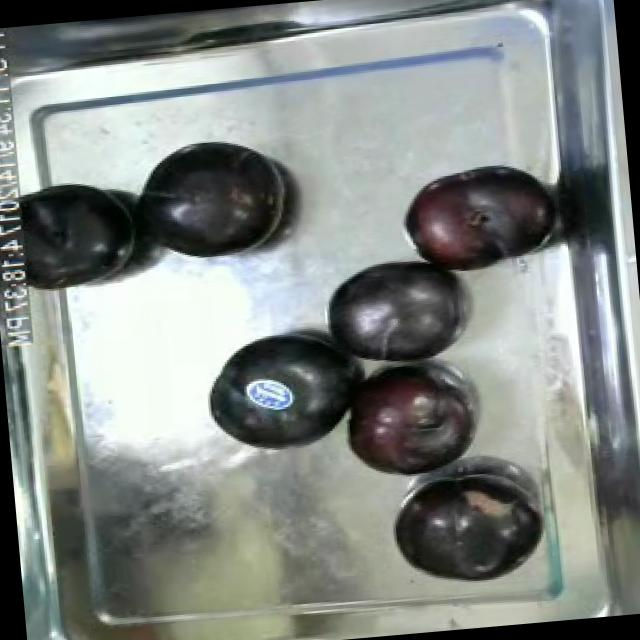Fruit: (118, 128, 292, 268), (194, 321, 366, 461), (394, 154, 564, 278), (331, 353, 483, 487), (0, 169, 148, 306), (314, 248, 468, 376), (387, 468, 538, 592)
